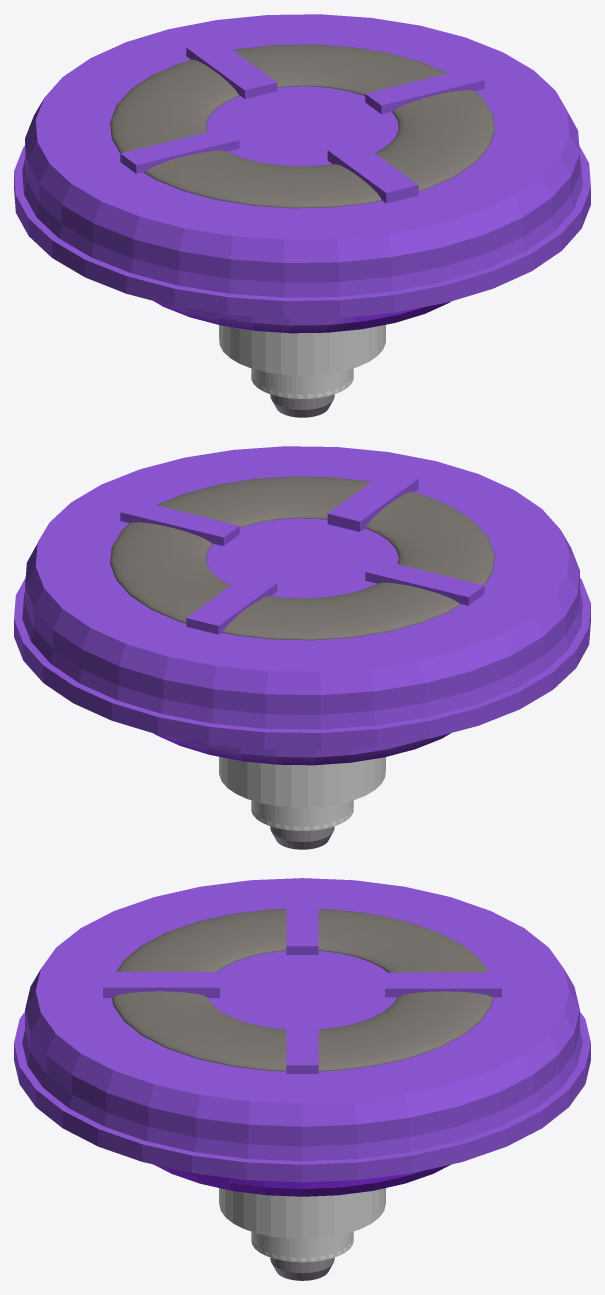
Rendered from PurpleBayblade.fbx.
3 renders of one model, top to bottom at view 1: azimuth 30°, elevation 25°; view 2: azimuth 150°, elevation 25°; view 3: azimuth 270°, elevation 25°, orthographic.
Parts seen in each view (by area): view 1: top blade, SurfTorus, leg.mid, middle blade, leg.top, Cube.001, Cube.003, Cube.002, leg.bottom, point; view 2: top blade, SurfTorus, leg.mid, middle blade, leg.top, Cube.001, Cube.003, Cube.002, leg.bottom, point; view 3: top blade, SurfTorus, leg.mid, middle blade, Cube.001, leg.top, leg.bottom, Cube.002, Cube.003, point.
Part boxes in pixels (left/top/right/bottom): top blade: left=14, top=14, right=590, bottom=318; SurfTorus: left=110, top=44, right=494, bottom=208; leg.mid: left=219, top=324, right=385, bottom=375; middle blade: left=154, top=301, right=450, bottom=333; leg.top: left=327, top=142, right=418, bottom=203; Cube.001: left=186, top=40, right=277, bottom=98; Cube.003: left=365, top=68, right=484, bottom=113; Cube.002: left=120, top=128, right=239, bottom=173; leg.bottom: left=251, top=368, right=353, bottom=398; point: left=270, top=394, right=334, bottom=417; top blade: left=14, top=446, right=590, bottom=750; SurfTorus: left=110, top=476, right=494, bottom=640; leg.mid: left=219, top=756, right=385, bottom=807; middle blade: left=154, top=733, right=450, bottom=765; leg.top: left=327, top=471, right=418, bottom=531; Cube.001: left=186, top=575, right=277, bottom=634; Cube.003: left=120, top=500, right=239, bottom=545; Cube.002: left=365, top=560, right=484, bottom=605; leg.bottom: left=251, top=800, right=353, bottom=830; point: left=270, top=826, right=334, bottom=849; top blade: left=14, top=878, right=590, bottom=1182; SurfTorus: left=112, top=909, right=493, bottom=1071; leg.mid: left=219, top=1188, right=385, bottom=1238; middle blade: left=154, top=1164, right=450, bottom=1196; Cube.001: left=385, top=972, right=501, bottom=997; leg.top: left=103, top=972, right=219, bottom=997; leg.bottom: left=251, top=1231, right=353, bottom=1262; Cube.002: left=286, top=896, right=318, bottom=954; Cube.003: left=286, top=1015, right=318, bottom=1073; point: left=270, top=1257, right=334, bottom=1280.
Bounding box in the file's own units: 900 × 499 × 900.
